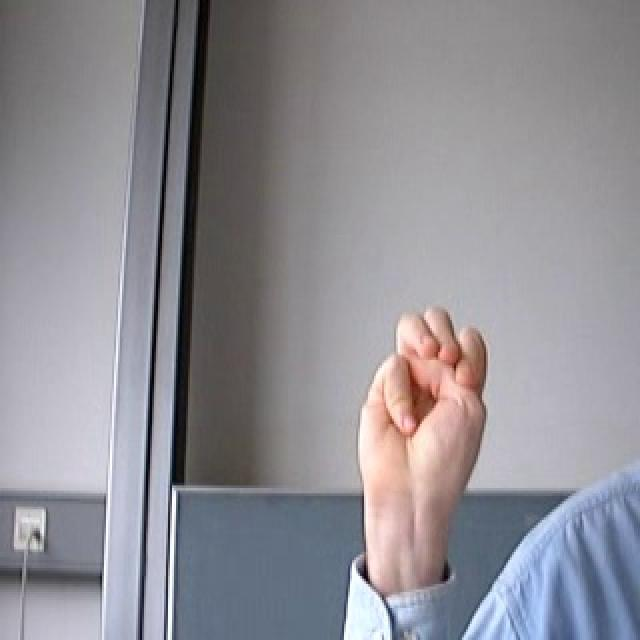M: (322, 273, 519, 563)
